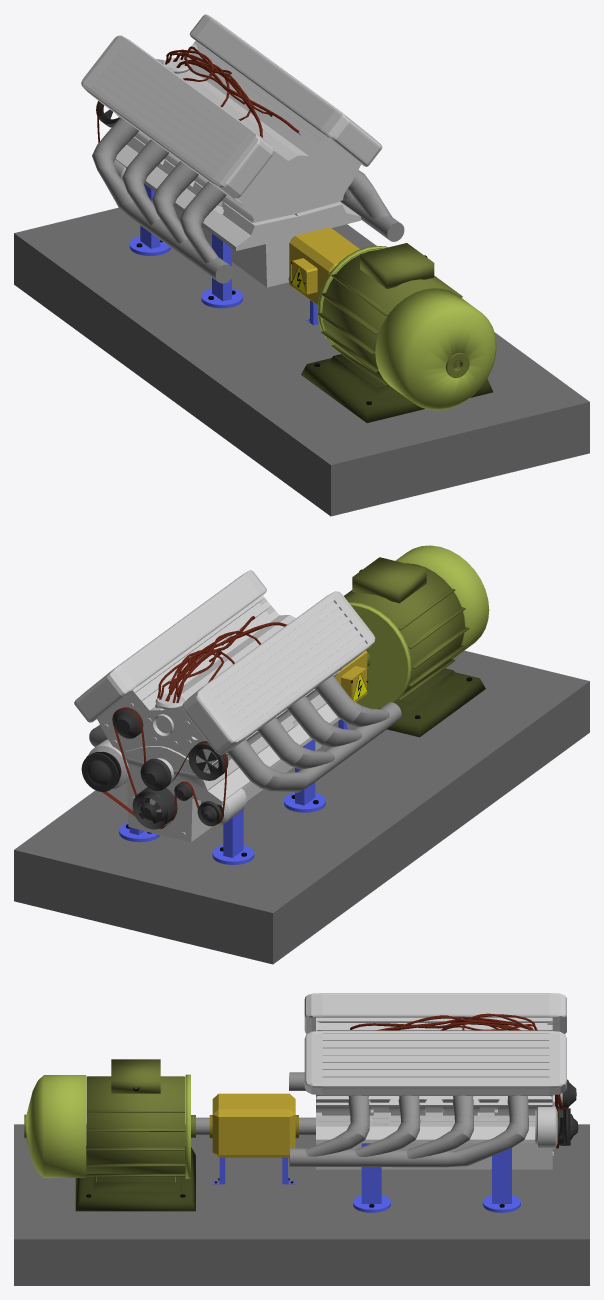
The model's file is Engine_stand.fbx.
3 views of the same model, one above another, from view 1: azimuth 30°, elevation 25°; view 2: azimuth 150°, elevation 25°; view 3: azimuth 270°, elevation 25° (orthographic). The views are drawn at different scales.
Visible parts, largest first — view 1: Base, Engine_body, Electromotor_body, Rpm_sensor_body, Engine_legs; view 2: Base, Engine_body, Electromotor_body, Engine_legs, Block_3, Block_6, Rpm_sensor_body, Block_5, Curve_2, Block_4, Block_8; view 3: Base, Engine_body, Electromotor_body, Rpm_sensor_body, Engine_legs, Block_6.
Part boxes in pixels (x1,y1,x2,y2): Base: [14, 207, 589, 516]; Engine_body: [81, 14, 404, 287]; Electromotor_body: [301, 243, 496, 422]; Rpm_sensor_body: [288, 227, 359, 305]; Engine_legs: [129, 184, 242, 308]; Base: [14, 650, 589, 964]; Engine_body: [74, 570, 401, 841]; Electromotor_body: [344, 545, 489, 737]; Engine_legs: [119, 739, 325, 864]; Block_3: [132, 787, 177, 829]; Block_6: [81, 752, 121, 791]; Rpm_sensor_body: [335, 650, 367, 702]; Block_5: [188, 741, 228, 780]; Curve_2: [112, 708, 226, 827]; Block_4: [140, 758, 171, 790]; Block_8: [113, 707, 143, 738]; Base: [14, 1124, 589, 1285]; Engine_body: [289, 993, 566, 1169]; Electromotor_body: [24, 1059, 195, 1211]; Rpm_sensor_body: [212, 1093, 295, 1157]; Engine_legs: [353, 1143, 520, 1212]; Block_6: [557, 1109, 578, 1145].
Size of the model in its own units: 1055 by 933 by 2235.
